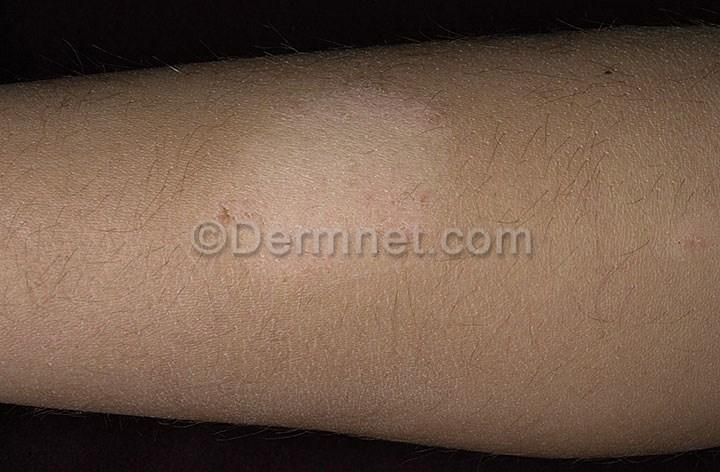Eczema: (220, 113, 443, 268)
